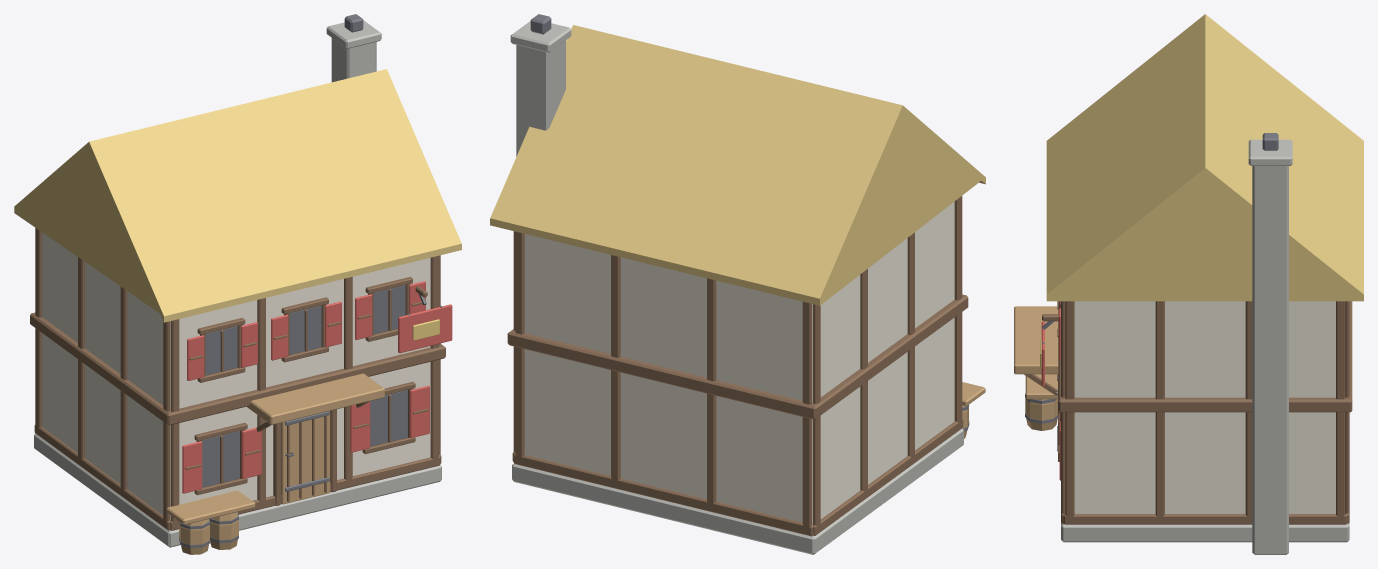
The model's file is village-tavern.glb.
3 renders of one model, left to right at view 1: azimuth 30°, elevation 25°; view 2: azimuth 150°, elevation 25°; view 3: azimuth 270°, elevation 25°, orthographic. The views are drawn at different scales.
Parts seen in each view (by area): view 1: village-tavern, door/wood, sign/red, door/timber; view 2: village-tavern; view 3: village-tavern.
Boxes of the visible parts, box(x1,y1,x2,y2) form: village-tavern: box(14, 14, 461, 554); door/wood: box(281, 411, 330, 504); sign/red: box(398, 304, 452, 353); door/timber: box(287, 416, 326, 501); village-tavern: box(490, 14, 985, 554); village-tavern: box(1014, 14, 1363, 554).
Size of the model in its own units: 8.22 by 9.76 by 7.5.
